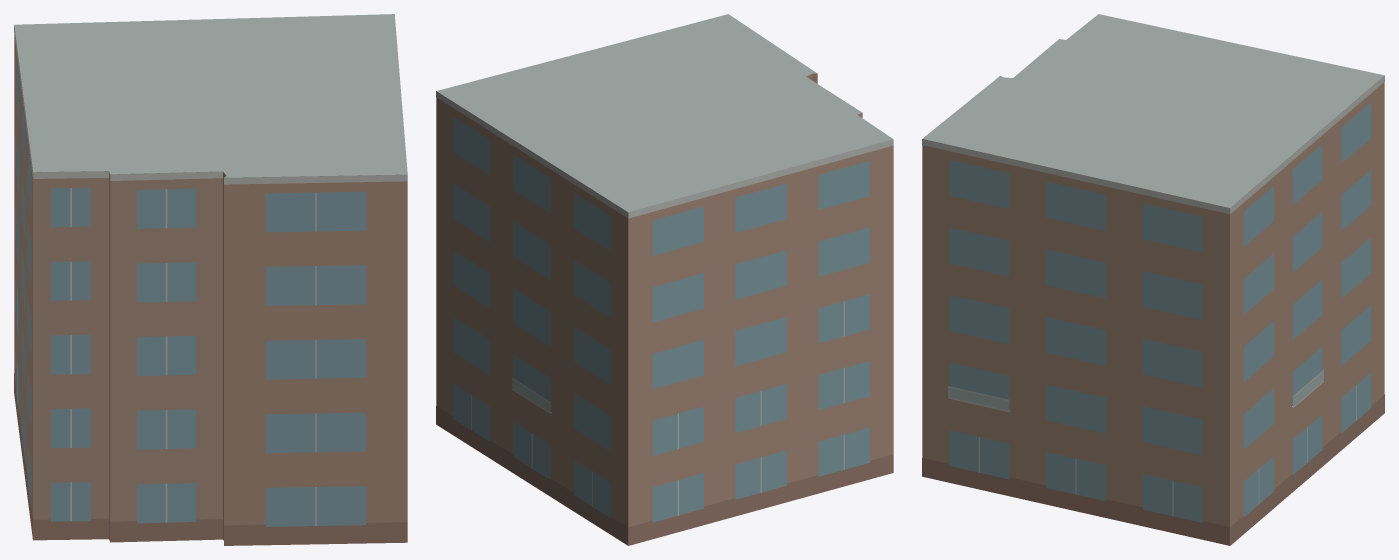
File: survey-upis-32991966.glb
3 renders of one model, left to right at view 1: azimuth 30°, elevation 25°; view 2: azimuth 150°, elevation 25°; view 3: azimuth 270°, elevation 25°, orthographic. The views are drawn at different scales.
Parts seen in each view (by area): view 1: survey-upis-32991966.tmp; view 2: survey-upis-32991966.tmp; view 3: survey-upis-32991966.tmp.
Boxes of the visible parts, x1,y1,x2,y2 form: survey-upis-32991966.tmp: (14, 14, 407, 545); survey-upis-32991966.tmp: (436, 14, 893, 545); survey-upis-32991966.tmp: (922, 14, 1384, 545).
Size of the model in its own units: 16.27 by 13.2 by 16.39.
